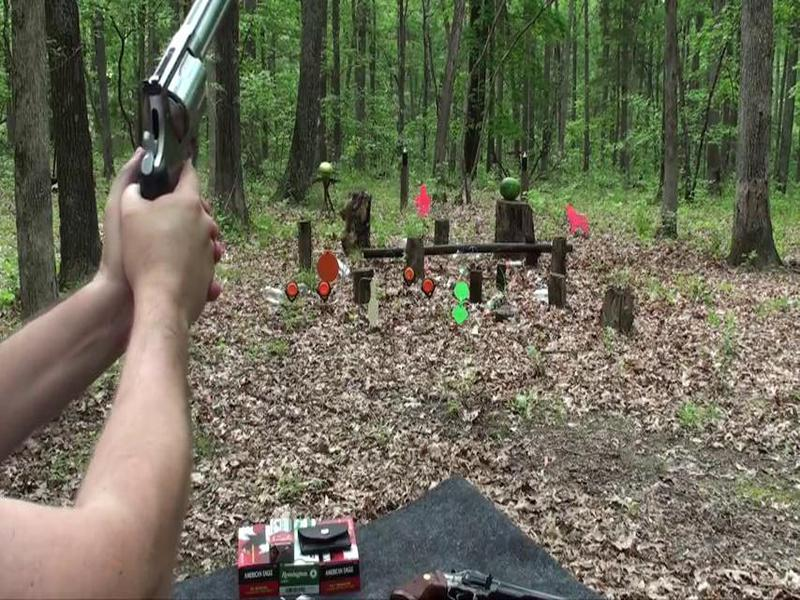Revolver: (85, 1, 251, 218)
